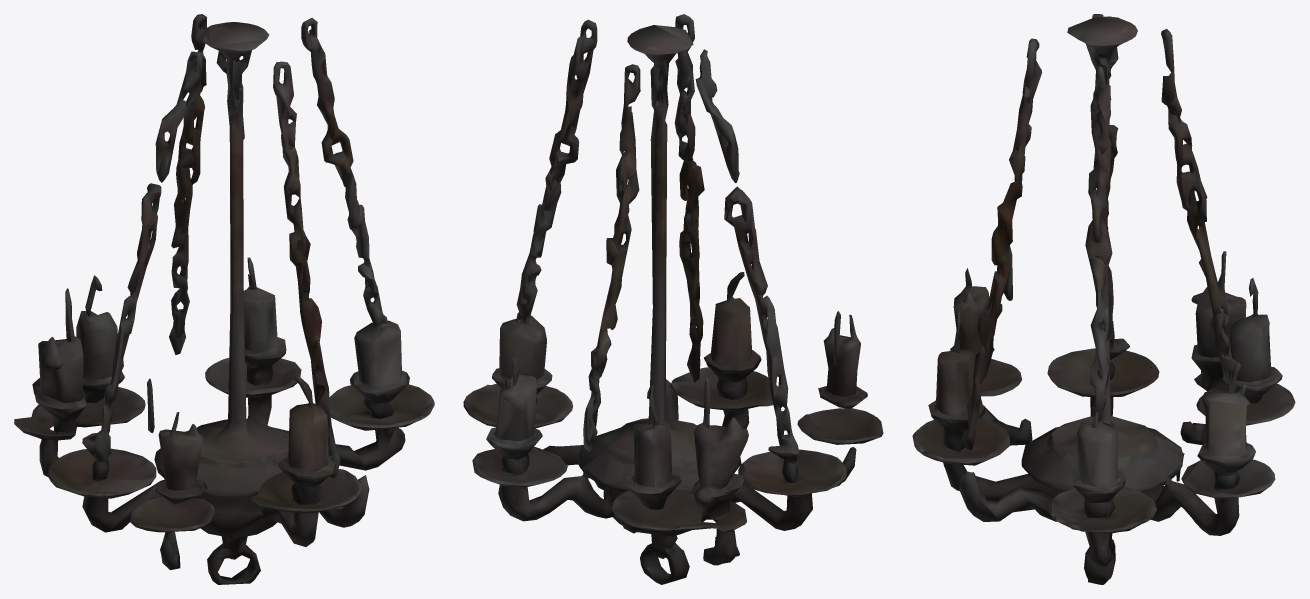
The model's file is ancient-iron-chandelier-v001.glb.
3 views of the same model, side by side, from view 1: azimuth 30°, elevation 25°; view 2: azimuth 150°, elevation 25°; view 3: azimuth 270°, elevation 25° (orthographic).
Visible parts, largest first — view 1: ancient-iron-chandelier; view 2: ancient-iron-chandelier; view 3: ancient-iron-chandelier.
Part boxes in pixels (x1,y1,x2,y2): ancient-iron-chandelier: (14, 14, 434, 584); ancient-iron-chandelier: (463, 14, 883, 584); ancient-iron-chandelier: (912, 14, 1295, 584).
Bounding box in the file's own units: 0.5885 × 0.8278 × 0.5197.
Materials: 1 (1 with a texture image).
